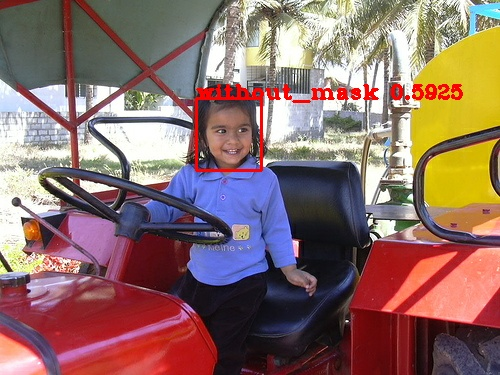without_mask: (197, 87, 261, 165)
